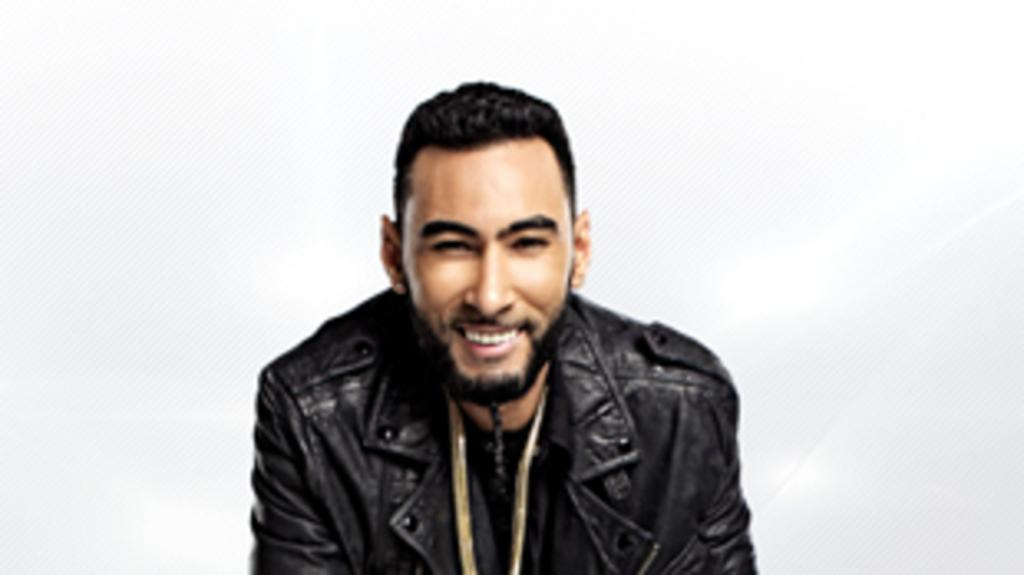face: (414, 144, 570, 388)
